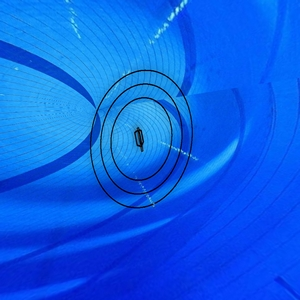circle: (86, 68, 200, 212)
submarine: (132, 124, 148, 154)
